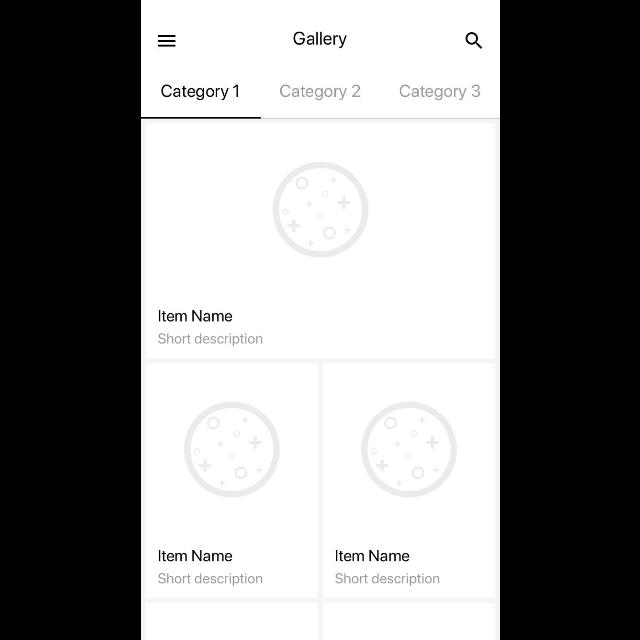icon: (466, 32, 482, 49), (157, 35, 175, 47)
image: (273, 162, 367, 258), (184, 402, 278, 496), (362, 402, 456, 496)
panel: (144, 123, 496, 360), (322, 363, 496, 599), (144, 363, 318, 599)
text: (335, 572, 439, 586), (158, 572, 262, 586), (280, 85, 360, 101), (160, 85, 238, 101), (158, 334, 262, 346), (400, 86, 480, 100), (158, 310, 232, 322), (335, 550, 409, 562), (158, 549, 232, 561), (293, 32, 347, 48)
